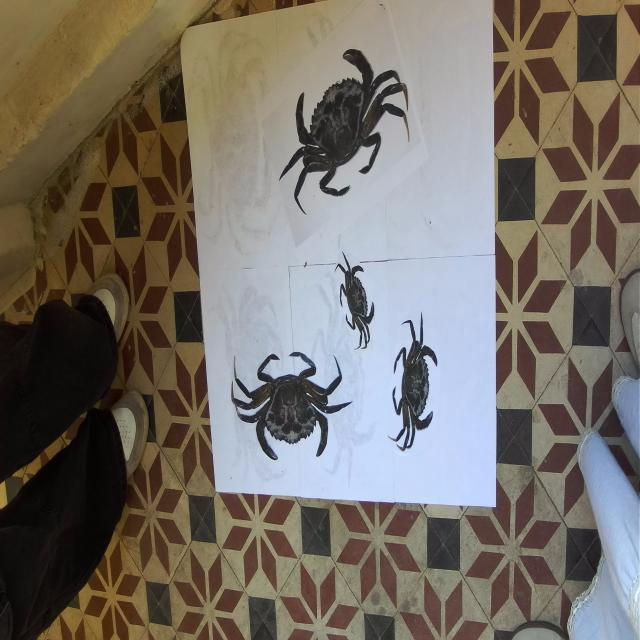European_Green_Crab: (263, 16, 419, 237), (231, 349, 354, 463), (386, 305, 442, 459), (328, 239, 382, 358)
